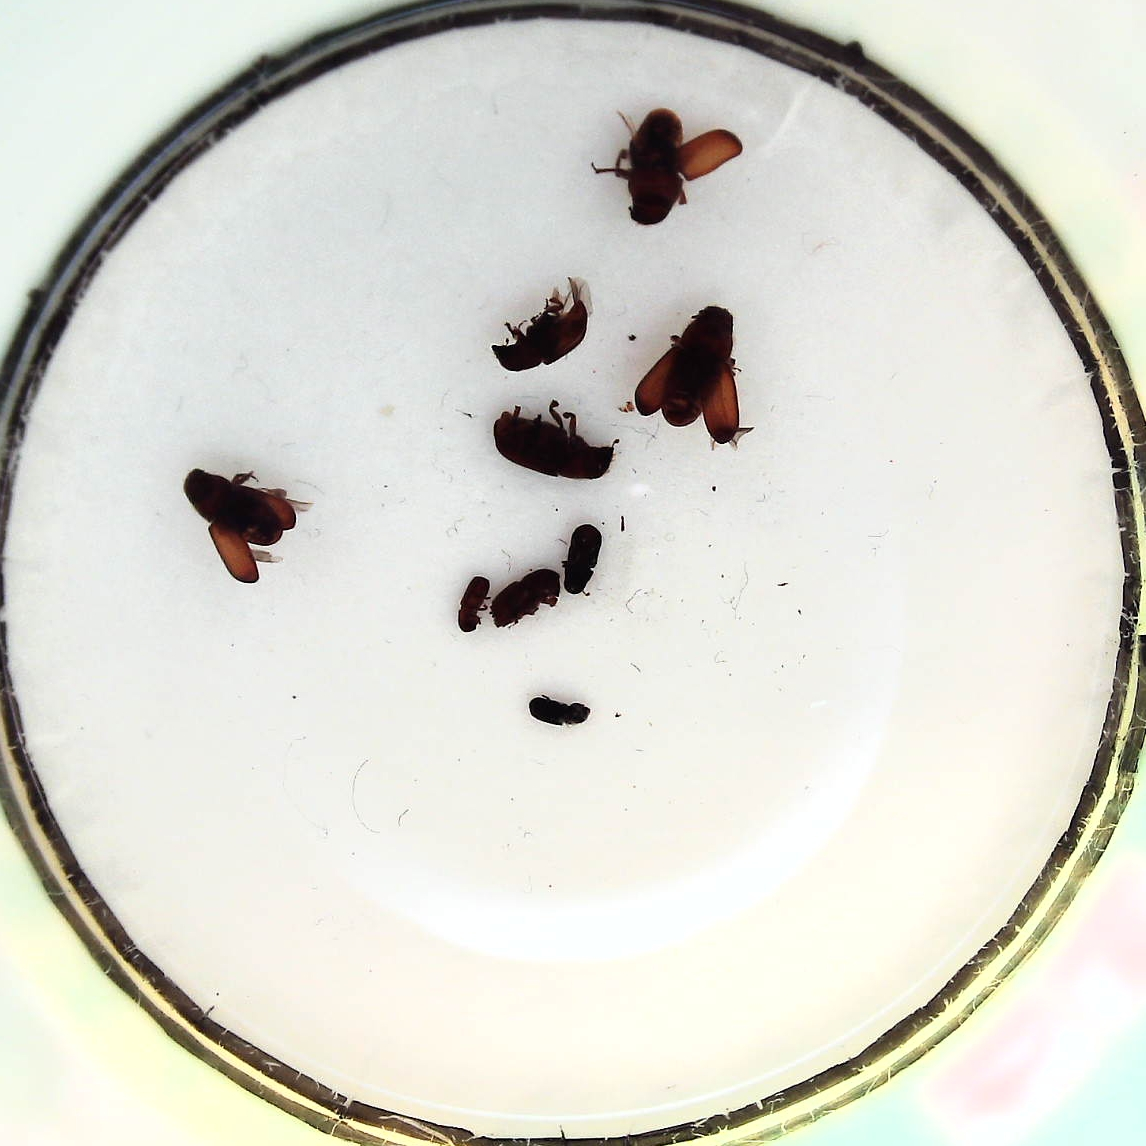Leconte: (607, 106, 744, 227), (633, 304, 749, 444), (182, 465, 302, 585), (489, 400, 618, 482), (492, 278, 592, 372)
Linnaeus: (487, 568, 564, 629)
acuminatus: (453, 573, 492, 632)
armandi: (559, 519, 604, 596)
coleoptera: (525, 689, 589, 733)
